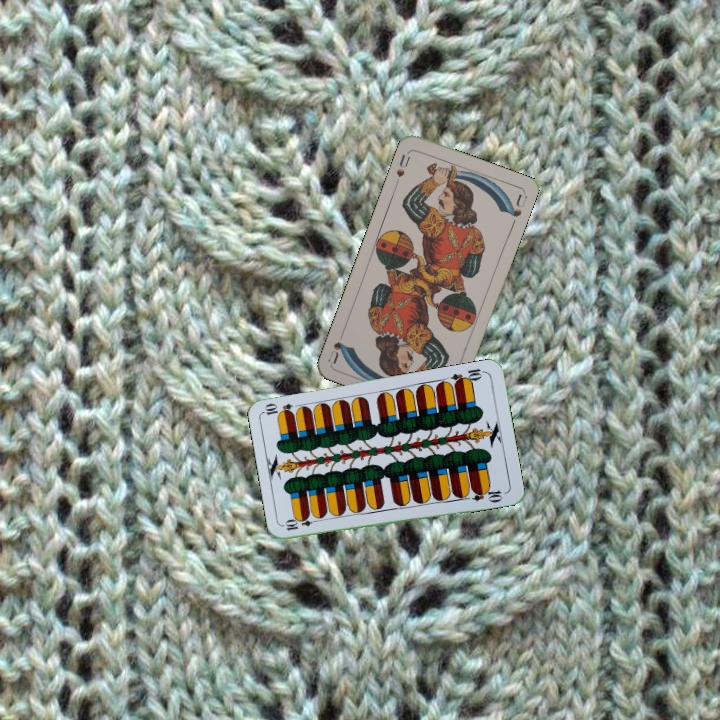E10: (447, 364, 488, 388), (281, 514, 322, 533)
SU: (391, 148, 413, 187)
